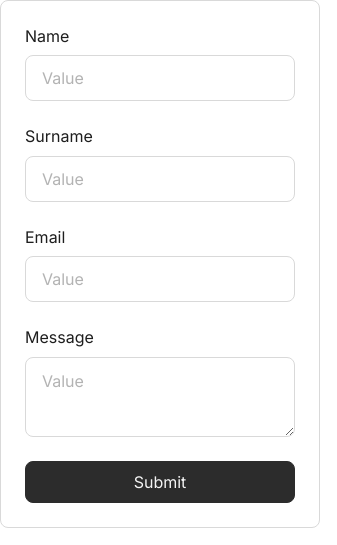
Test case: ContactForm › 送信中はボタンがdisabledになり「送信中...」と表示される
Type "Taro" into the field labelled "Name".
click(160, 78); type("Taro")  # box [25,55,295,101]
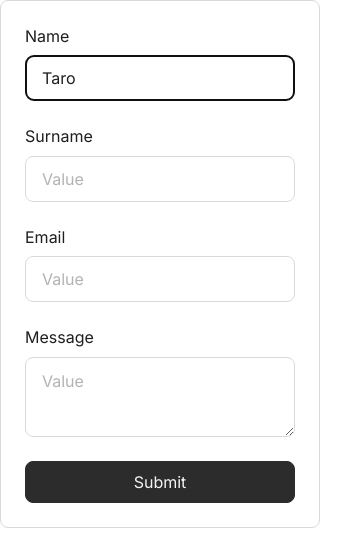
Type "Yamada" into the field labelled "Surname".
click(160, 179); type("Yamada")  # box [25,156,295,202]
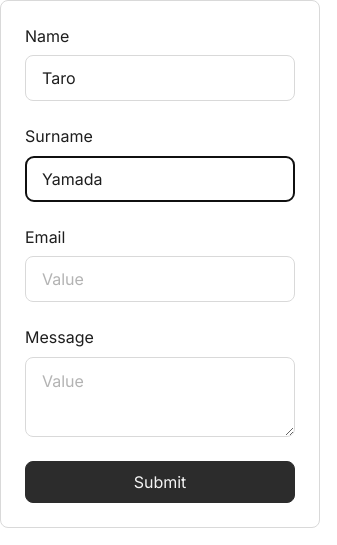
Type "taro@example.com" into the field labelled "Email".
click(160, 279); type("taro@example.com")  # box [25,256,295,302]
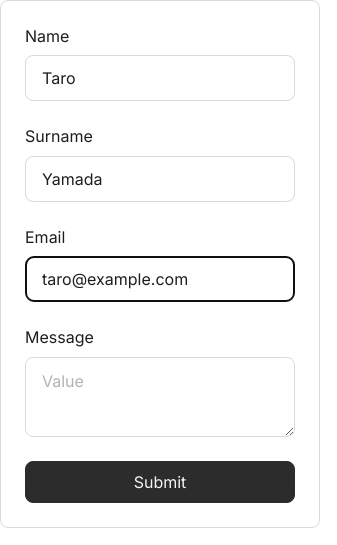
Type "お問い合わせ内容です。" into the text box labelled "Message".
click(160, 397); type("お問い合わせ内容です。")  # box [25,357,295,437]
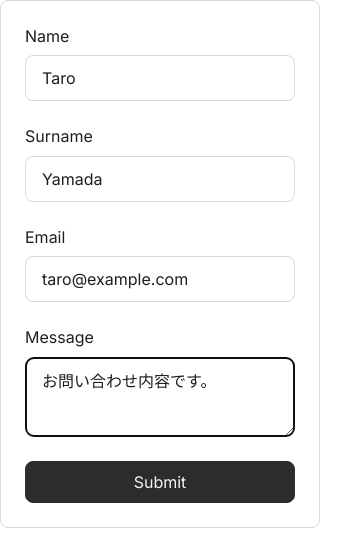
Click the button "Submit".
click(160, 482)  # box [25,461,295,503]
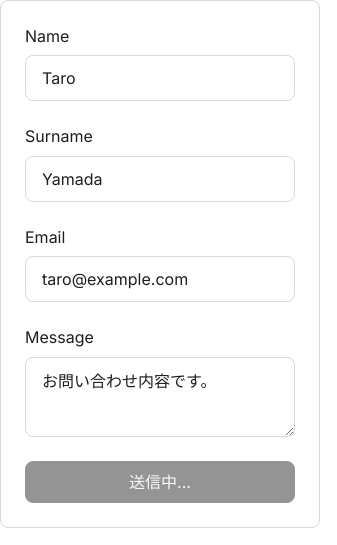
Expected: the button "送信中..." is disabled, [25,461,295,503]
